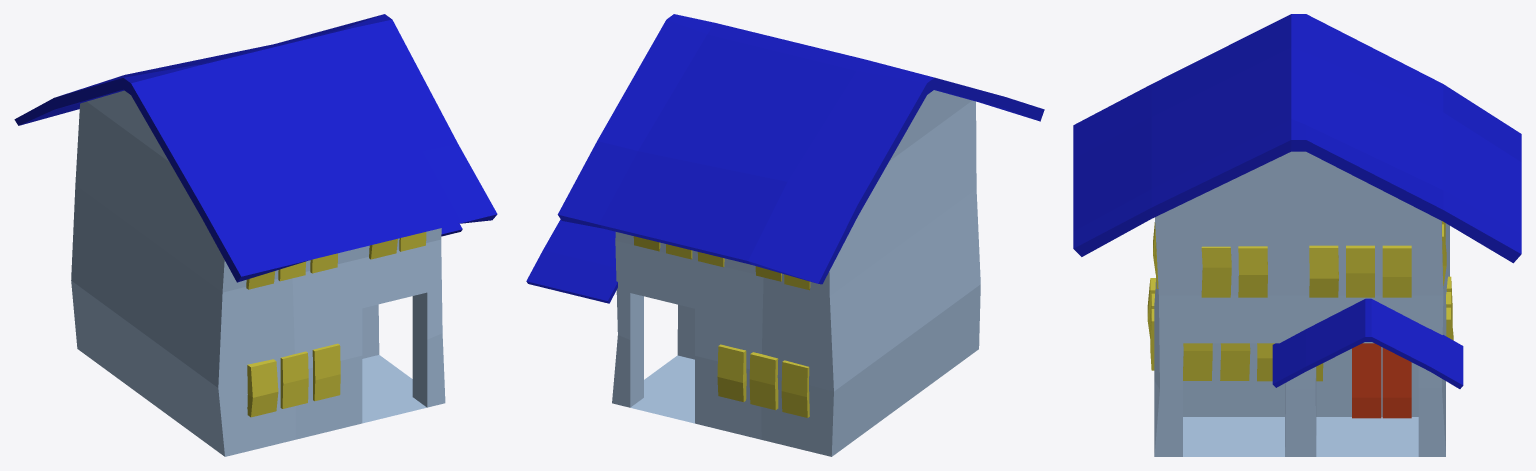
The model's file is Assets_Gfx_04172015.fbx.
3 views of the same model, side by side, from view 1: azimuth 30°, elevation 25°; view 2: azimuth 150°, elevation 25°; view 3: azimuth 270°, elevation 25° (orthographic).
Parts seen in each view (by area): view 1: Barangay Hall.001; view 2: Barangay Hall.001; view 3: Barangay Hall.001.
Boxes of the visible parts, x1=… form: Barangay Hall.001: x1=14, y1=14, x2=497, y2=456; Barangay Hall.001: x1=526, y1=14, x2=1044, y2=456; Barangay Hall.001: x1=1073, y1=14, x2=1521, y2=456.
Bounding box in the file's own units: 29.12 × 28.5 × 35.51.
